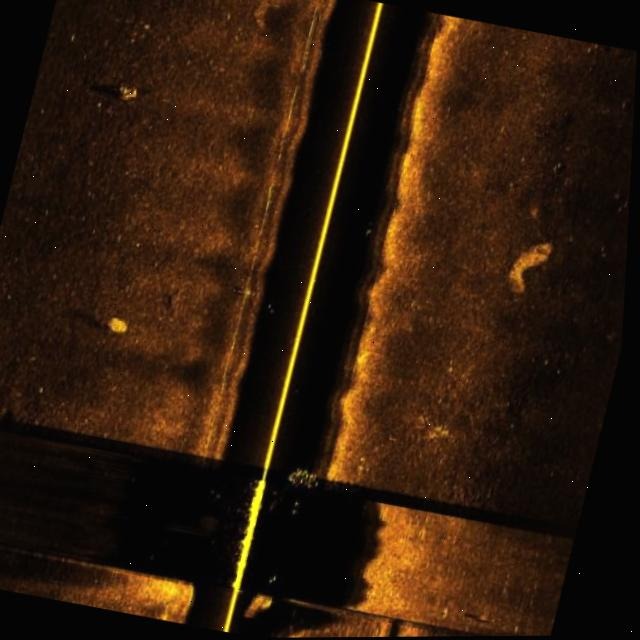mine: (108, 76, 144, 104)
